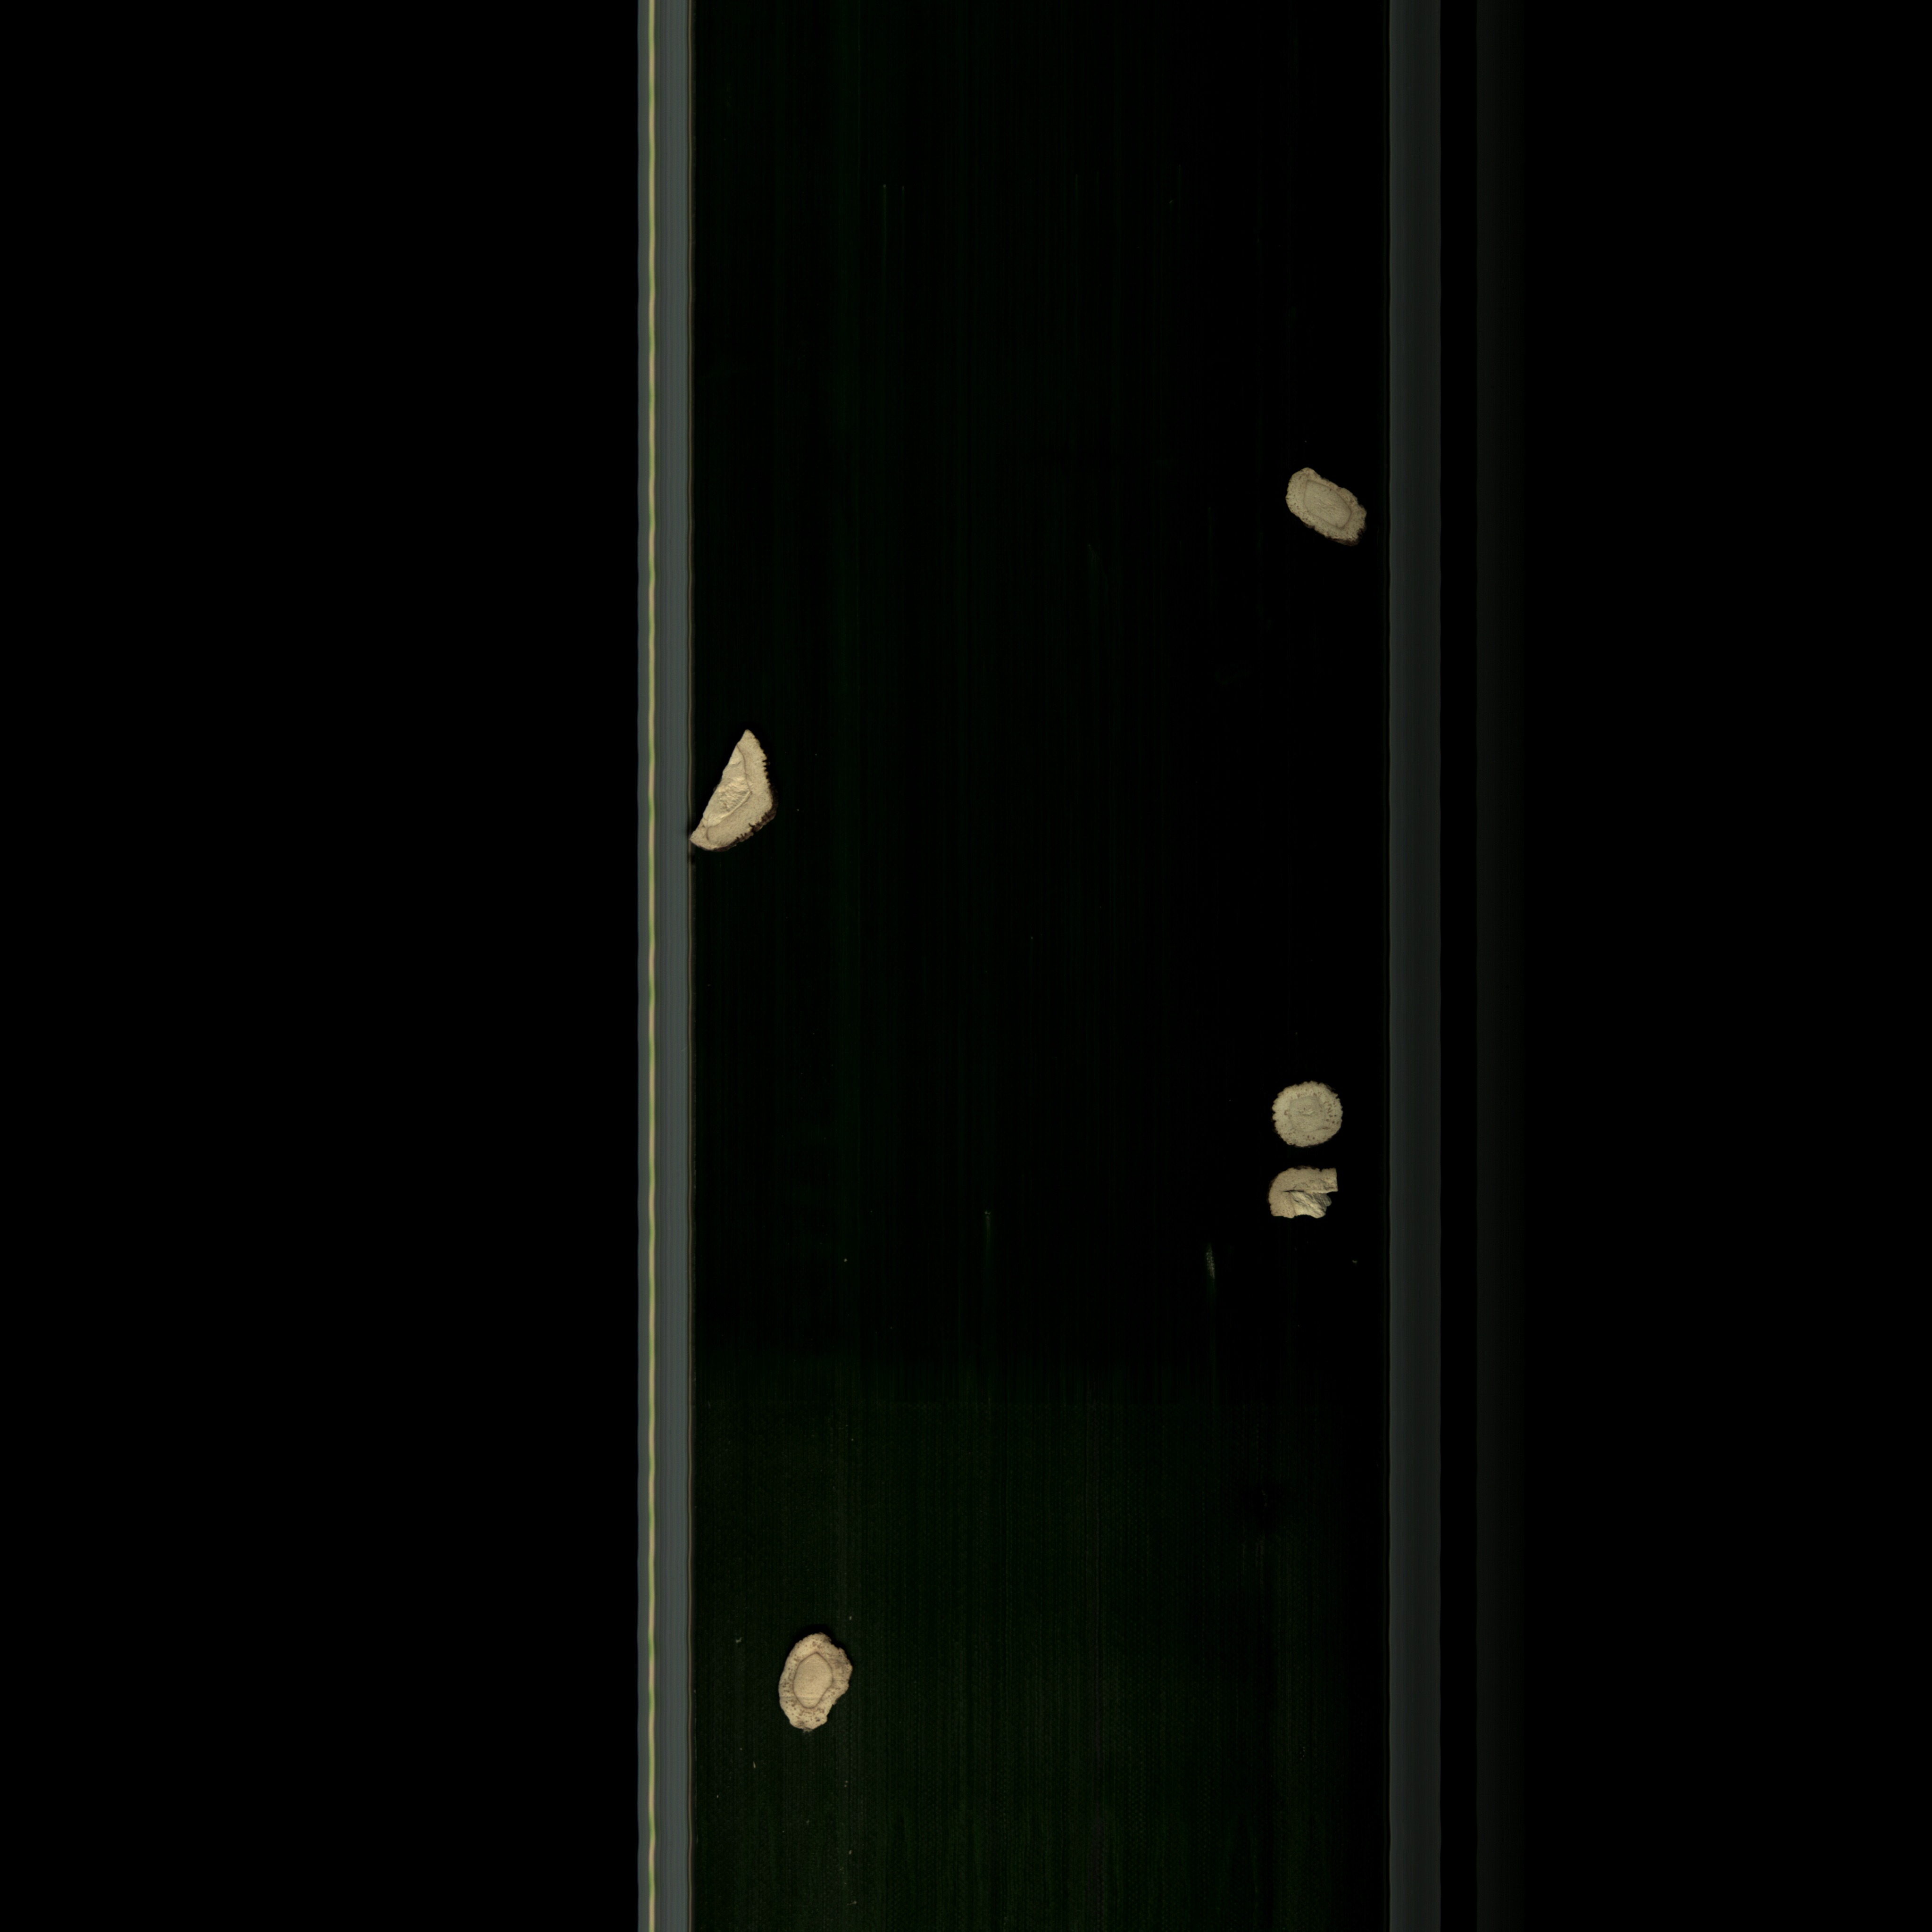debris: (685, 718, 780, 876), (1261, 1161, 1368, 1247)
distortion: (770, 1621, 872, 1759), (1276, 464, 1382, 563)
